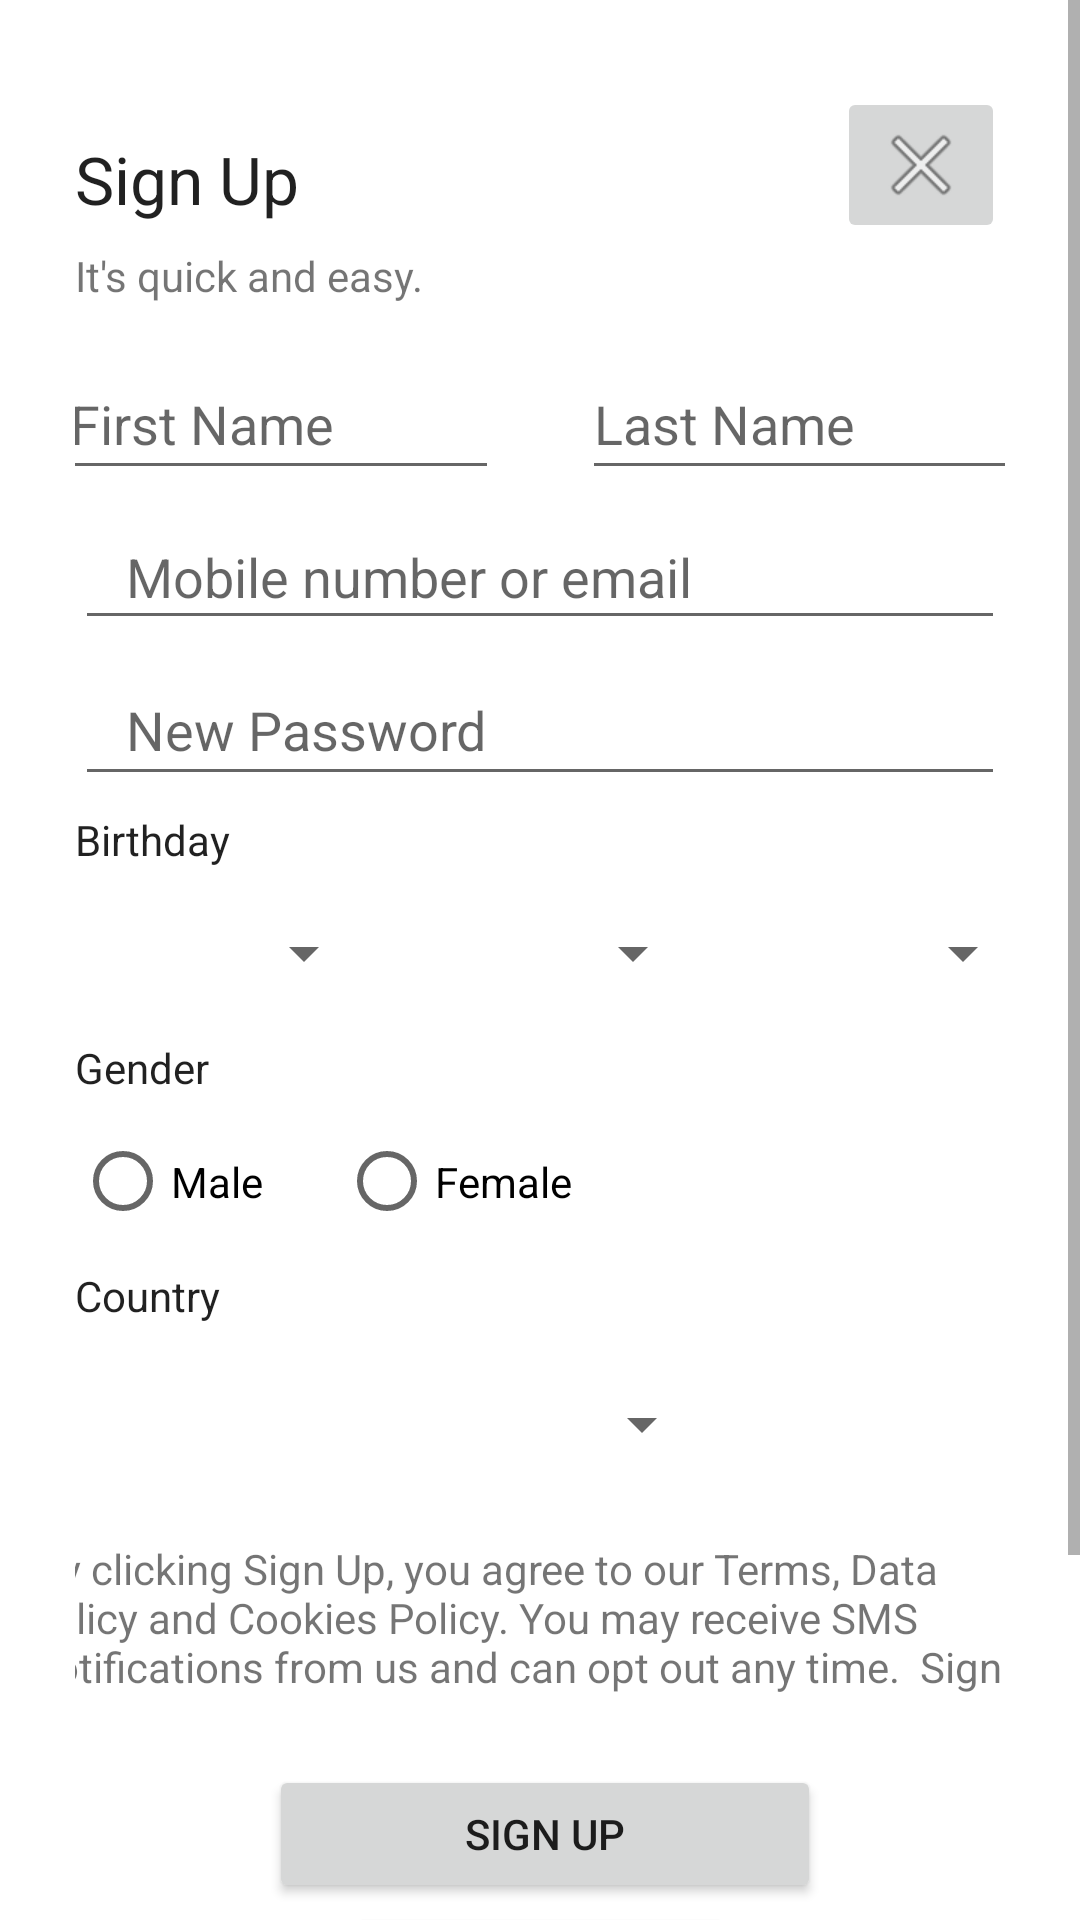

Screen size 1080px×1920px. Icon name, then its box in pixels as box(x1, y1, x2, y2):
close clear cancel: box(849, 105, 993, 225)
